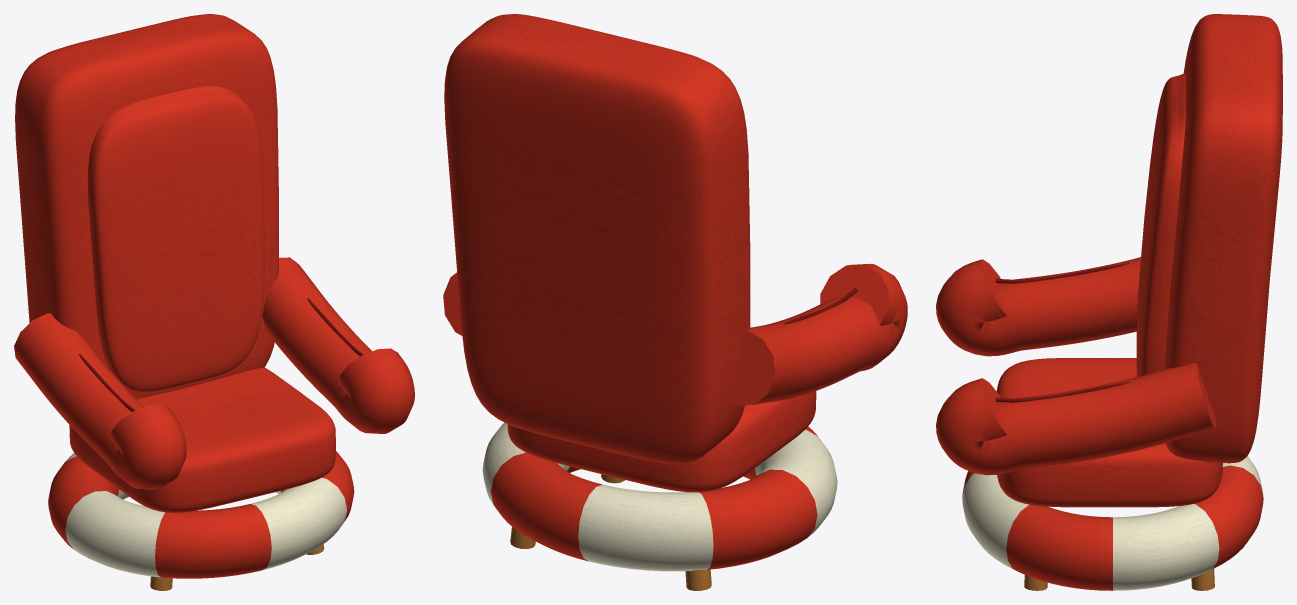
File: chair.glb
The picture shows the model from 3 angles, left to right: view 1: azimuth 30°, elevation 25°; view 2: azimuth 150°, elevation 25°; view 3: azimuth 270°, elevation 25°; orthographic projection. The views are drawn at different scales.
Visible parts, largest first — view 1: chair_red upholstery, chair_cream rubber, chair_red seams; view 2: chair_red upholstery, chair_cream rubber, chair_warm wood; view 3: chair_red upholstery, chair_cream rubber, chair_red seams, chair_warm wood.
Boxes of the visible parts, bbox=[...] form: chair_red upholstery: bbox=[14, 14, 414, 512]; chair_cream rubber: bbox=[48, 451, 354, 578]; chair_red seams: bbox=[78, 298, 363, 411]; chair_red upholstery: bbox=[443, 14, 907, 492]; chair_cream rubber: bbox=[482, 422, 837, 571]; chair_warm wood: bbox=[510, 474, 711, 590]; chair_red upholstery: bbox=[936, 14, 1282, 507]; chair_cream rubber: bbox=[962, 456, 1263, 590]; chair_red seams: bbox=[995, 263, 1129, 402]; chair_warm wood: bbox=[1024, 568, 1214, 590].
Size of the model in its own units: 1.05 by 1.62 by 1.04.
4 materials, 3 textured.
